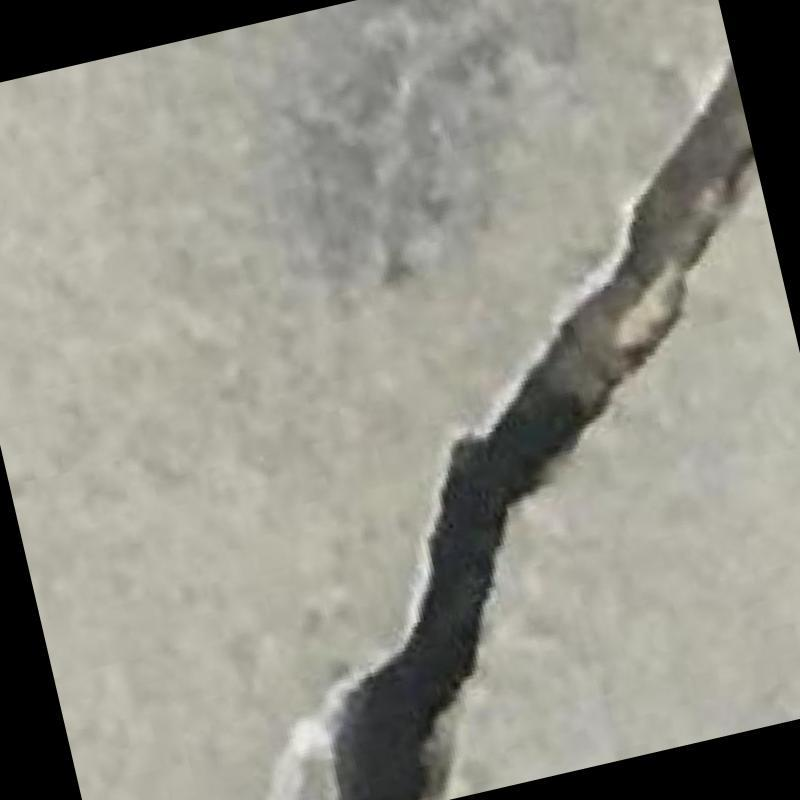pothole: (335, 64, 753, 800)
